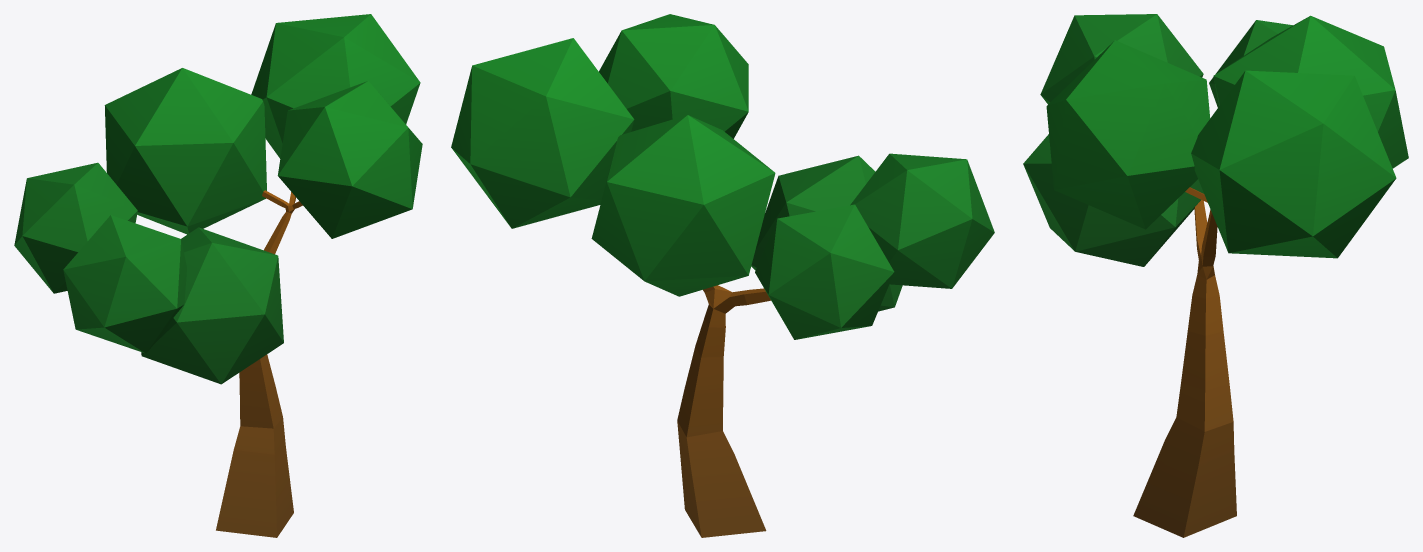
The model's file is Tree_1.fbx.
3 renders of one model, left to right at view 1: azimuth 30°, elevation 25°; view 2: azimuth 150°, elevation 25°; view 3: azimuth 270°, elevation 25°, orthographic. The views are drawn at different scales.
Parts seen in each view (by area): view 1: Tree_1; view 2: Tree_1; view 3: Tree_1.
Boxes of the visible parts, <box> form: Tree_1: <box>14,14,422,537</box>; Tree_1: <box>451,14,994,537</box>; Tree_1: <box>1023,14,1408,537</box>.
Bounding box in the file's own units: 824 × 842 × 576.
